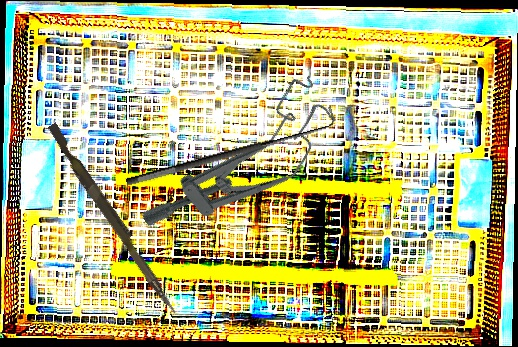Hook Surgical: (120, 105, 339, 190)
Pusher: (42, 122, 185, 316)
Speculum: (130, 69, 353, 265)
